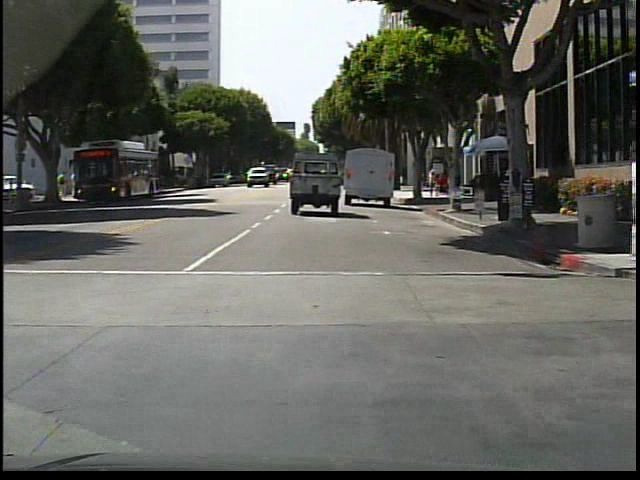person: (72, 169, 82, 199), (59, 170, 69, 200), (427, 171, 437, 197), (420, 167, 428, 199), (636, 141, 638, 256)
